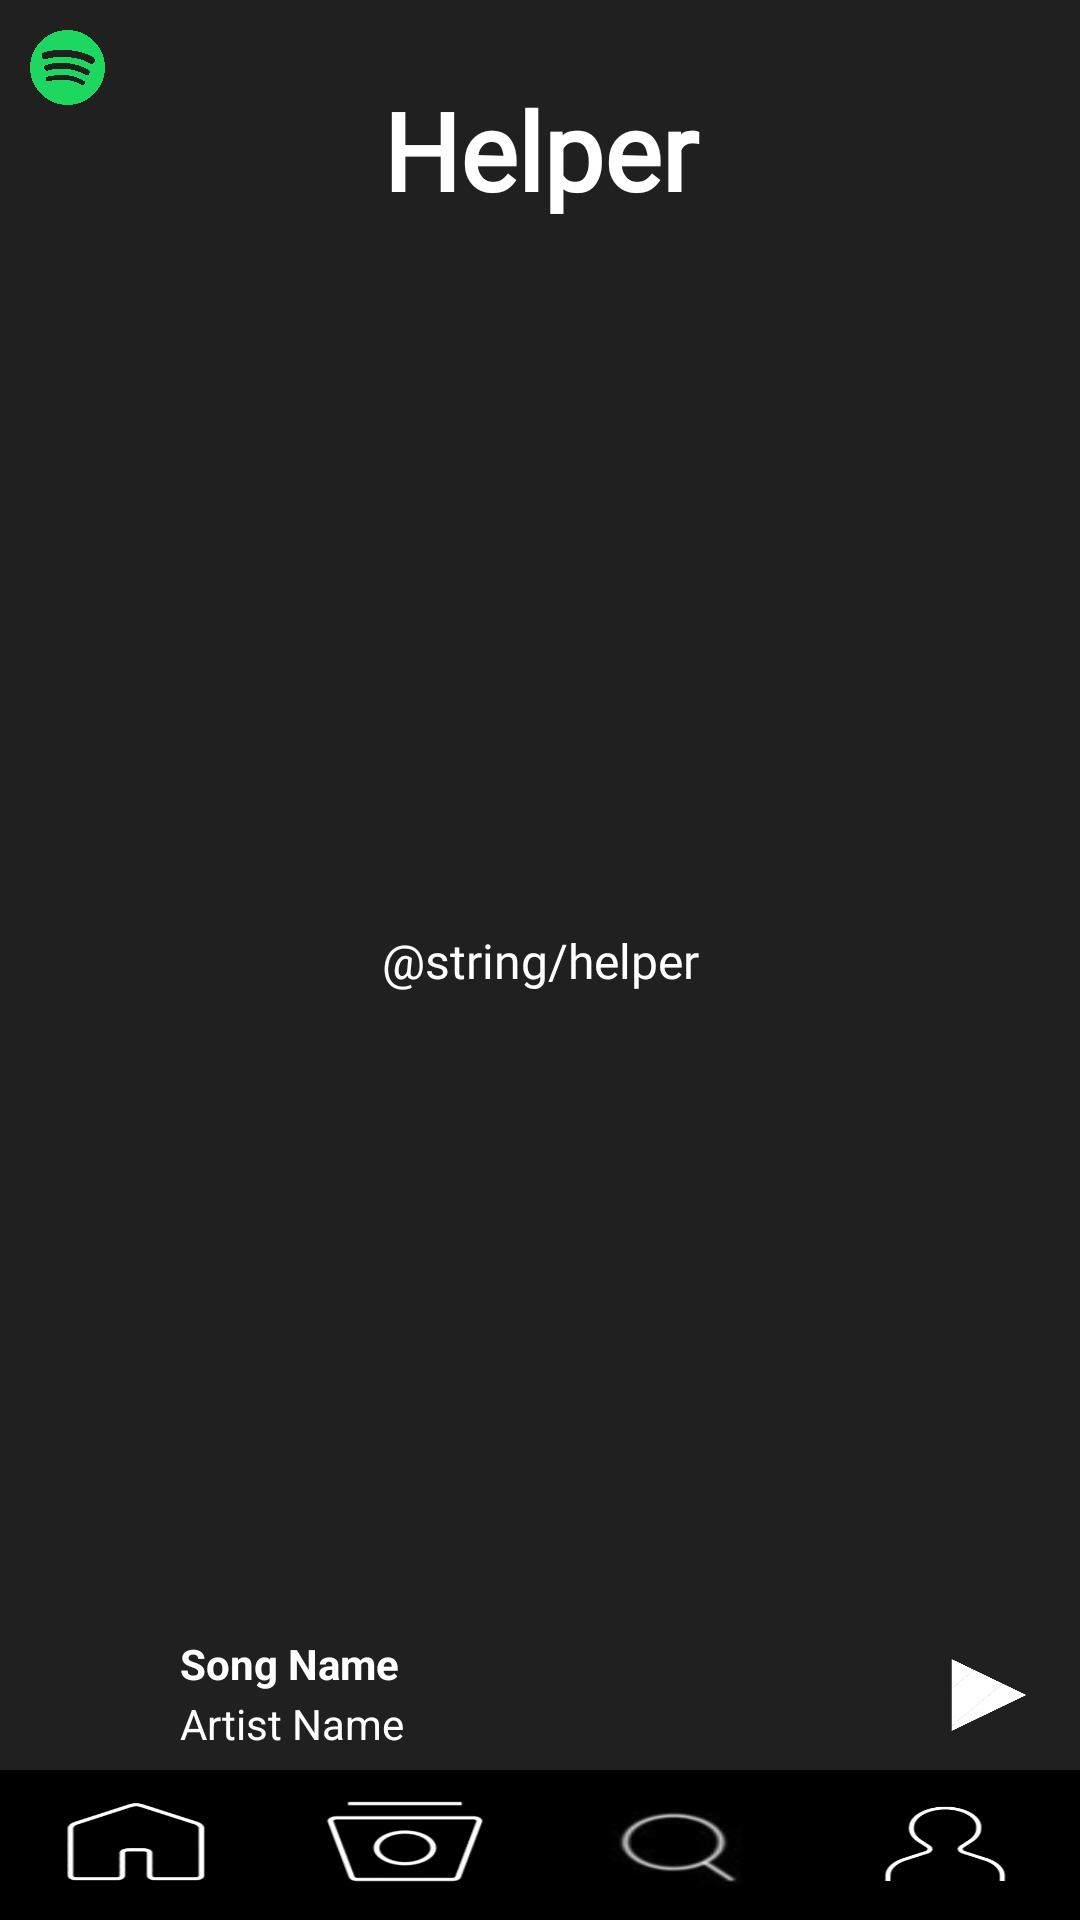

Icons on this 1080px×1920px Android screen, each with its box as [x1,y1,x2,y2]:
home: [67,1803,205,1881]
search: [620,1813,736,1882]
